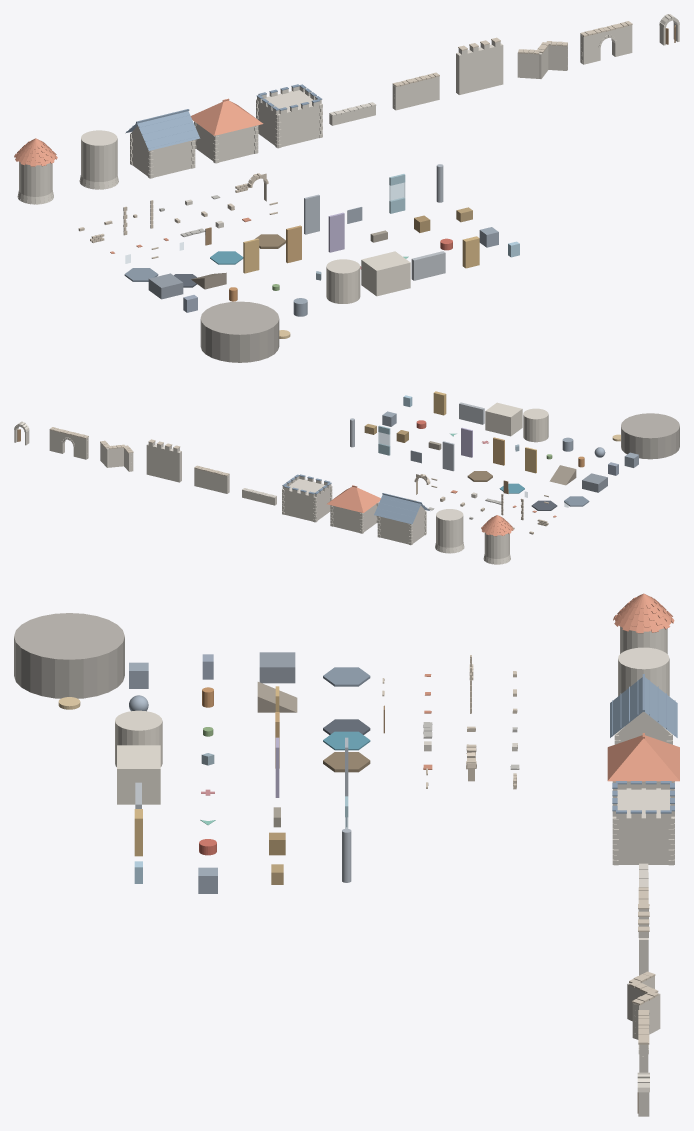
Rendered from glade_pieces_kit.glb.
3 views of the same model, one above another, from view 1: azimuth 30°, elevation 25°; view 2: azimuth 150°, elevation 25°; view 3: azimuth 270°, elevation 25° (orthographic). The views are drawn at different scales.
Visible parts, largest first — view 1: Piece_Building_glade_terrain, Glade_Room_Battlements_Stone, Glade_Wall_Fortified_Stone, Glade_Tower_Battlements_Stone, Glade_Room_Gable_Stone, Piece_Building_glade_room, Glade_Room_Gable_Roof, Glade_Room_Hipped_Stone, Glade_Room_Hipped_Roof, Piece_Building_glade_tower, Glade_Tower_Conical_Stone, Glade_Wall_Curved_Path_Stone (+12 smaller); view 2: Piece_Building_glade_terrain, Glade_Room_Battlements_Stone, Glade_Wall_Fortified_Stone, Glade_Tower_Battlements_Stone, Glade_Room_Gable_Stone, Piece_Building_glade_room, Glade_Room_Gable_Roof, Glade_Room_Hipped_Stone, Glade_Room_Hipped_Roof, Piece_Building_glade_tower, Glade_Tower_Conical_Stone, Glade_Wall_With_Archway_Stone (+13 smaller); view 3: Piece_Building_glade_terrain, Glade_Room_Battlements_Stone, Glade_Room_Hipped_Roof, Piece_Building_glade_room, Glade_Room_Gable_Roof, Glade_Tower_Battlements_Stone, Piece_Building_glade_tower, Glade_Tower_Conical_Roof, Piece_Traversal_block, Glade_Wall_Curved_Path_Stone, Glade_Room_Gable_Stone, Glade_Tower_Conical_Stone (+1 smaller).
Part boxes in pixels (box(x1,y1,x2,y2)): Piece_Building_glade_terrain: box(200, 301, 279, 362); Glade_Room_Battlements_Stone: box(256, 86, 322, 148); Glade_Wall_Fortified_Stone: box(456, 41, 503, 94); Glade_Tower_Battlements_Stone: box(79, 130, 118, 189); Glade_Room_Gable_Stone: box(130, 125, 195, 178); Piece_Building_glade_room: box(361, 251, 410, 296); Glade_Room_Gable_Roof: box(125, 109, 200, 150); Glade_Room_Hipped_Stone: box(194, 121, 258, 163); Glade_Room_Hipped_Roof: box(191, 98, 263, 135); Piece_Building_glade_tower: box(326, 259, 360, 303); Glade_Tower_Conical_Stone: box(17, 162, 53, 204); Glade_Wall_Curved_Path_Stone: box(517, 43, 567, 78); Piece_Building_glade_terrain: box(621, 413, 679, 459); Glade_Room_Battlements_Stone: box(282, 476, 332, 522); Glade_Wall_Fortified_Stone: box(146, 442, 181, 482); Glade_Tower_Battlements_Stone: box(435, 509, 464, 553); Glade_Room_Gable_Stone: box(377, 505, 426, 545); Piece_Building_glade_room: box(485, 402, 522, 436); Glade_Room_Gable_Roof: box(374, 493, 429, 524); Glade_Room_Hipped_Stone: box(330, 502, 378, 533); Glade_Room_Hipped_Roof: box(326, 485, 380, 512); Piece_Building_glade_tower: box(523, 408, 548, 442); Glade_Tower_Conical_Stone: box(483, 533, 510, 564); Glade_Wall_With_Archway_Stone: box(49, 430, 88, 459); Piece_Building_glade_terrain: box(14, 613, 124, 698); Glade_Room_Battlements_Stone: box(612, 784, 674, 865); Glade_Room_Hipped_Roof: box(607, 733, 679, 781); Piece_Building_glade_room: box(117, 745, 160, 804); Glade_Room_Gable_Roof: box(610, 674, 677, 737); Glade_Tower_Battlements_Stone: box(618, 647, 669, 696); Piece_Building_glade_tower: box(115, 710, 162, 766); Glade_Tower_Conical_Roof: box(613, 593, 674, 633); Piece_Traversal_block: box(259, 652, 295, 683); Glade_Wall_Curved_Path_Stone: box(627, 976, 660, 1039); Glade_Room_Gable_Stone: box(614, 712, 672, 744); Glade_Tower_Conical_Stone: box(620, 626, 667, 653).
Size of the model in its own units: 55.47 by 5.99 by 33.63.
